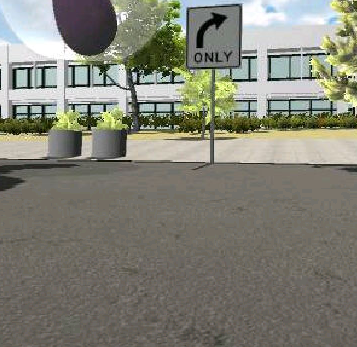arrow_right: (197, 11, 229, 48)
